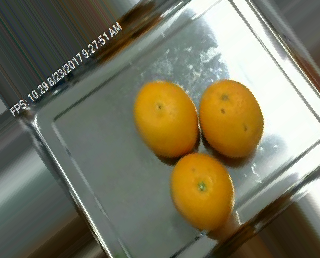Orange: (198, 79, 265, 157), (133, 79, 199, 157), (169, 152, 234, 231)
